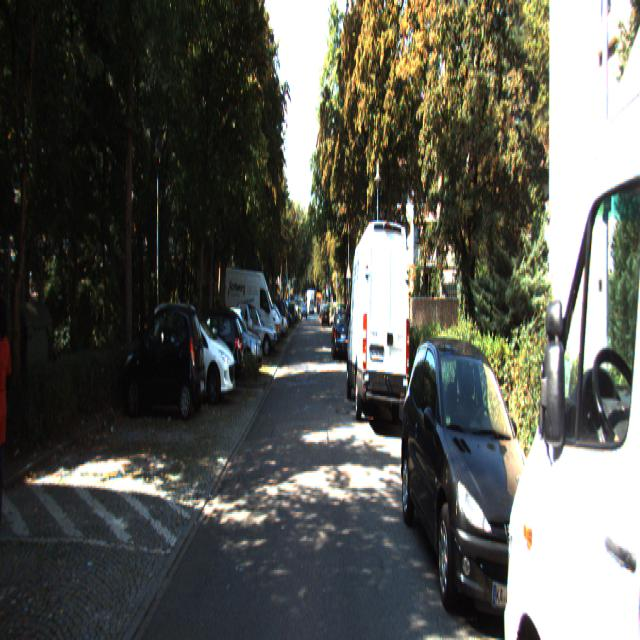Car: (399, 331, 554, 638), (346, 214, 411, 426), (121, 301, 206, 421), (150, 298, 236, 409), (165, 302, 245, 393), (223, 264, 281, 356), (231, 307, 278, 360), (332, 310, 353, 362)
